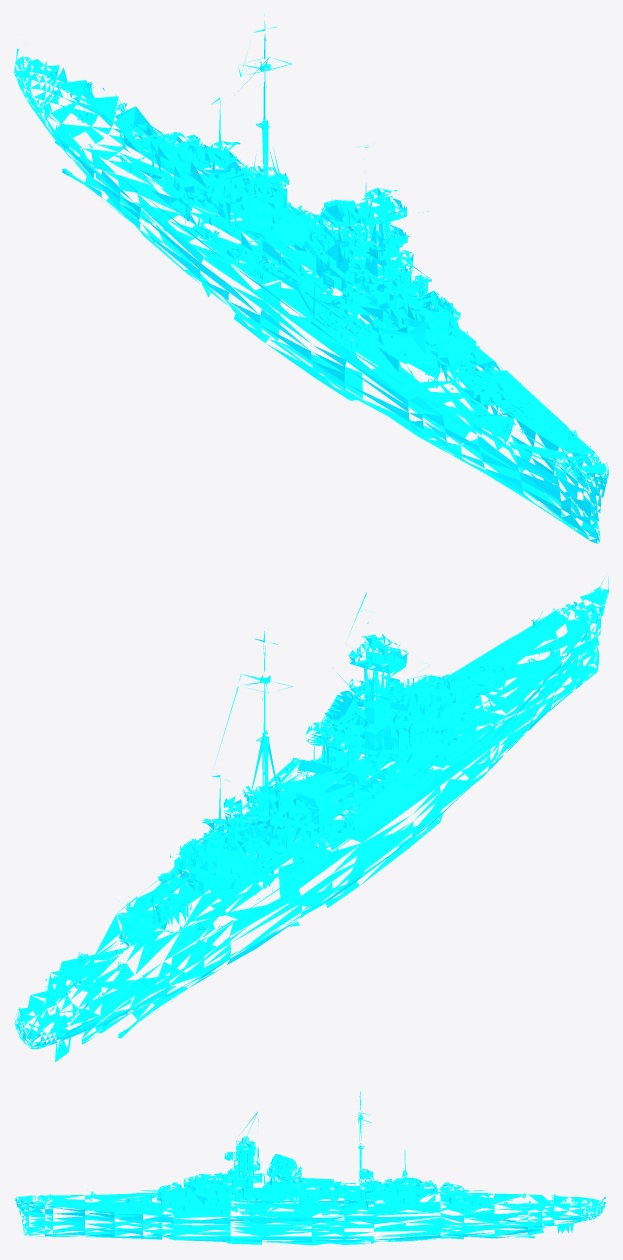
File: PGSC108.glb
3 renders of one model, top to bottom at view 1: azimuth 30°, elevation 25°; view 2: azimuth 150°, elevation 25°; view 3: azimuth 270°, elevation 25°, orthographic. The views are drawn at different scales.
Parts seen in each view (by area): view 1: hull_mid, hull_bow, hull_stern, main_battery, superstructure, aa_mount, secondary_battery, torpedo; view 2: hull_mid, hull_bow, hull_stern, main_battery, superstructure, aa_mount, secondary_battery, torpedo; view 3: hull_mid, hull_bow, hull_stern, main_battery, aa_mount, secondary_battery, superstructure.
Boxes of the visible parts, x1,y1,x2,y2 form: hull_mid: (117, 14, 503, 446); hull_bow: (418, 370, 608, 543); hull_stern: (14, 48, 203, 224); main_battery: (102, 111, 524, 415); superstructure: (201, 141, 426, 298); aa_mount: (46, 62, 577, 439); secondary_battery: (178, 168, 456, 338); torpedo: (191, 202, 431, 332); hull_mid: (117, 592, 505, 987); hull_bow: (444, 576, 608, 771); hull_stern: (14, 914, 206, 1062); main_battery: (102, 653, 523, 956); superstructure: (201, 634, 428, 831); aa_mount: (46, 610, 560, 1003); secondary_battery: (176, 723, 456, 876); torpedo: (203, 747, 432, 876); hull_mid: (156, 1091, 466, 1245); hull_bow: (14, 1192, 162, 1239); hull_stern: (464, 1192, 605, 1238); main_battery: (108, 1182, 518, 1205); aa_mount: (63, 1141, 576, 1212); secondary_battery: (215, 1181, 410, 1214); superstructure: (228, 1136, 407, 1192).
Size of the model in its own units: 1.52 by 3.69 by 13.72.
